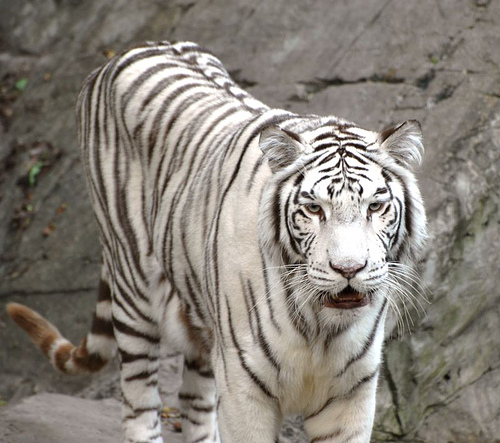Tigre: (40, 5, 448, 442)
